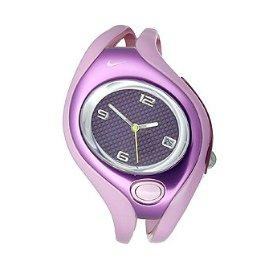watch: (63, 45, 208, 212)
